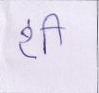i_matra: (48, 13, 66, 46)
